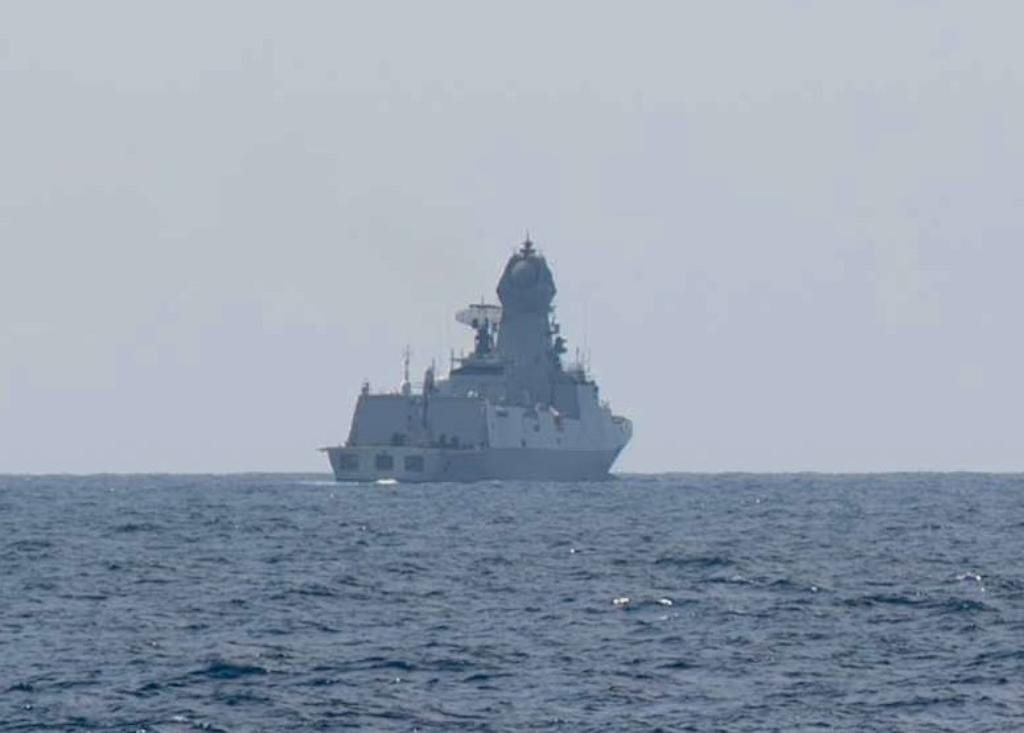Warship: (325, 237, 639, 481)
